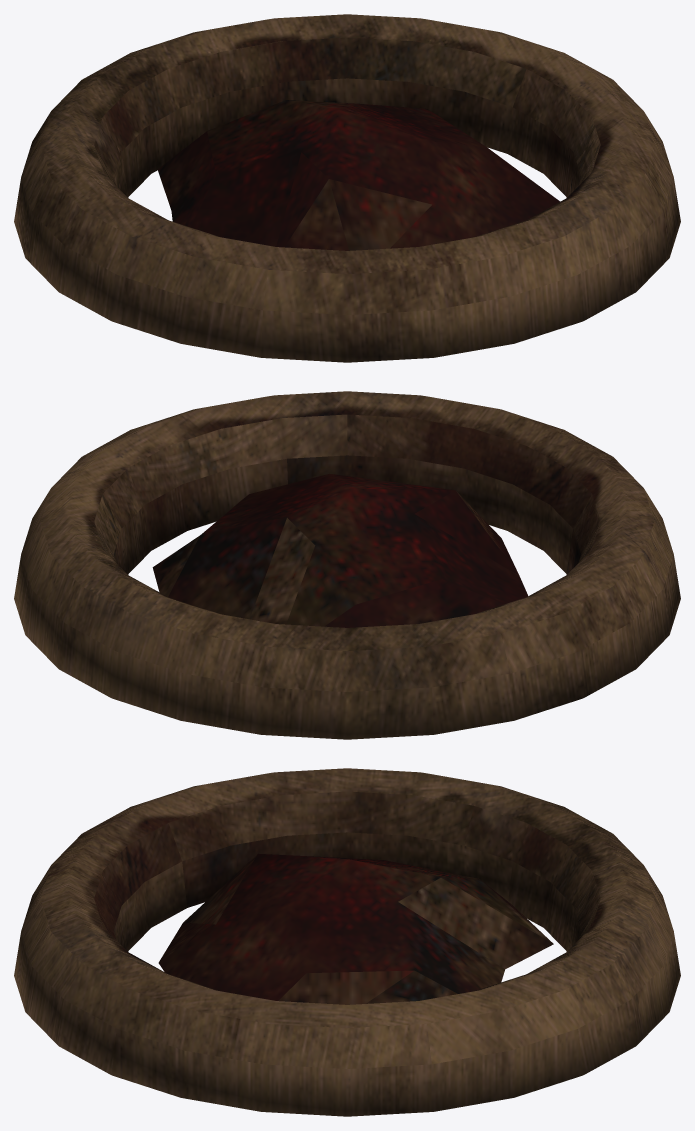
Rendered from Hoguera.obj.
The picture shows the model from 3 angles, top to bottom: view 1: azimuth 30°, elevation 25°; view 2: azimuth 150°, elevation 25°; view 3: azimuth 270°, elevation 25°; orthographic projection.
Parts seen in each view (by area): view 1: Hoguera001; view 2: Hoguera001; view 3: Hoguera001.
Boxes of the visible parts, box(x1,y1,x2,y2) form: Hoguera001: box(14, 14, 680, 362); Hoguera001: box(14, 391, 680, 739); Hoguera001: box(14, 768, 680, 1116).
Size of the model in its own units: 6.79 by 1.27 by 6.79.
Materials: 1 (1 with a texture image).
